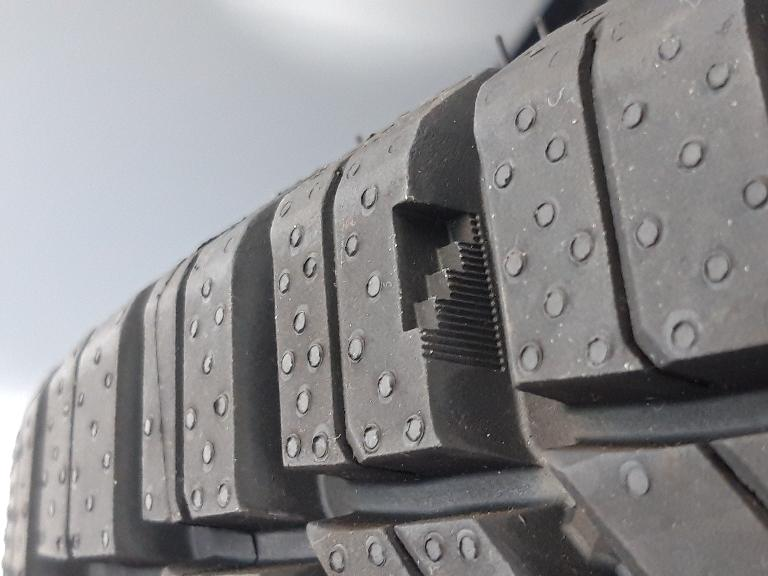temoin:100: (381, 188, 515, 381)
